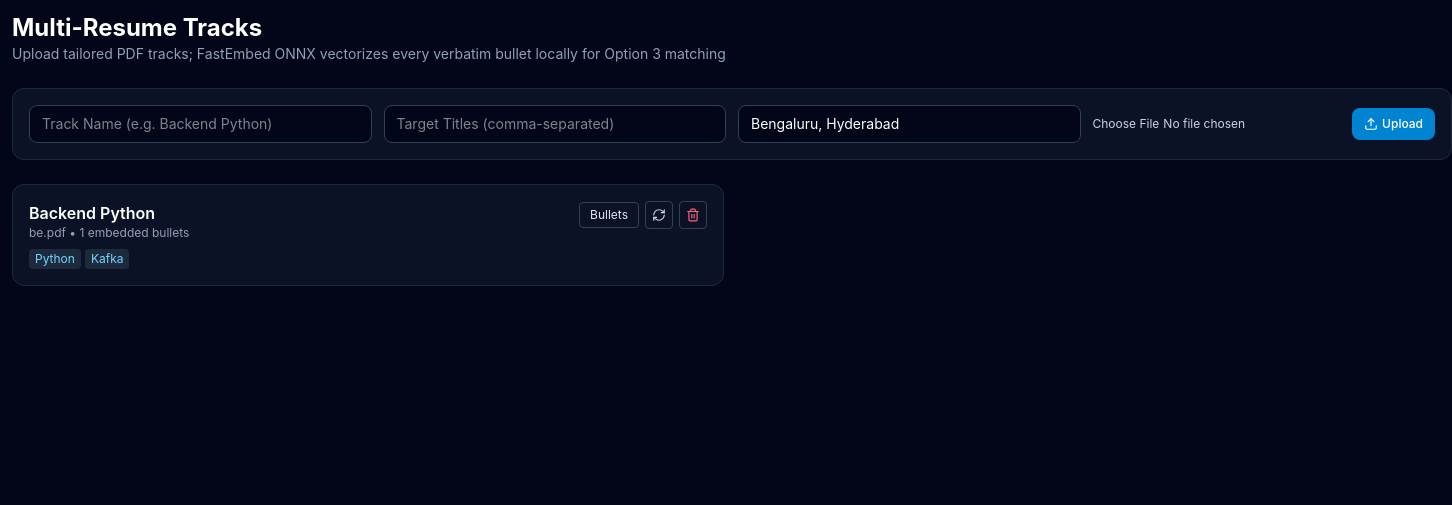
Test case: Comprehensive Frontend Pages & Drawer Tests › ResumesPage uploads PDF, views bullets, reparses, and deletes tracks
Later steps or results of the test are not shown.
Expected: the heading "Backend Python" is shown, 29,203 -> 155,223
Click the button "Bullets". click: (609, 215)
box: 579,202 -> 639,228
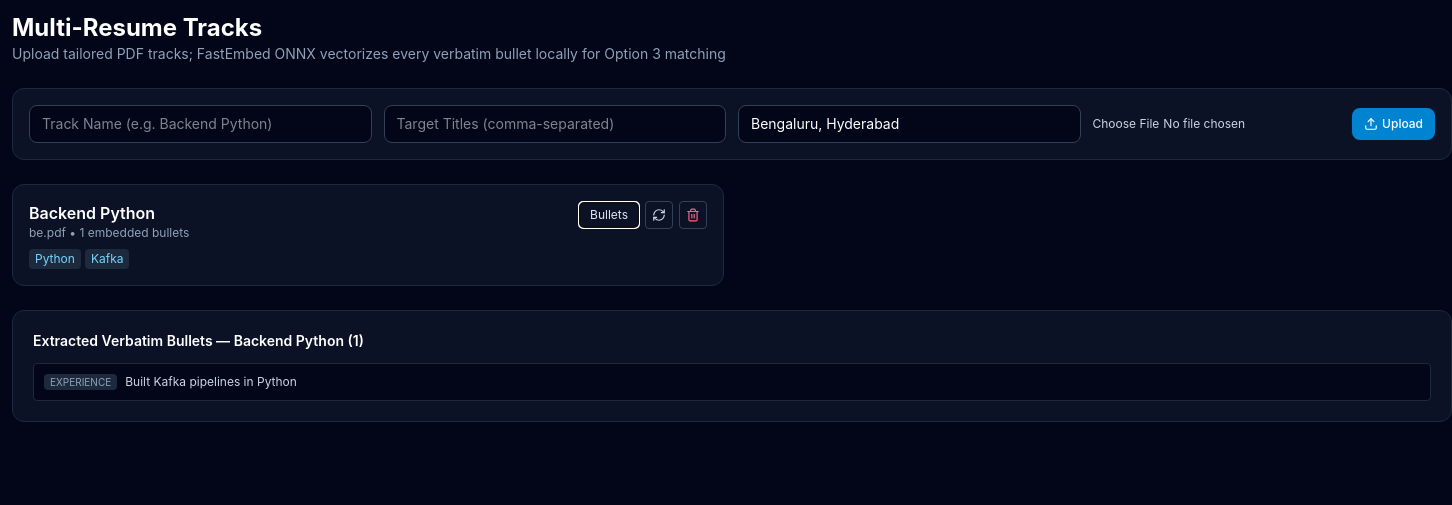
Expected: the list item "Built Kafka pipelines in Python" is shown, 125,374 -> 297,389
Click the button named "Reparse resume". click: (659, 215)
box: 645,201 -> 673,229
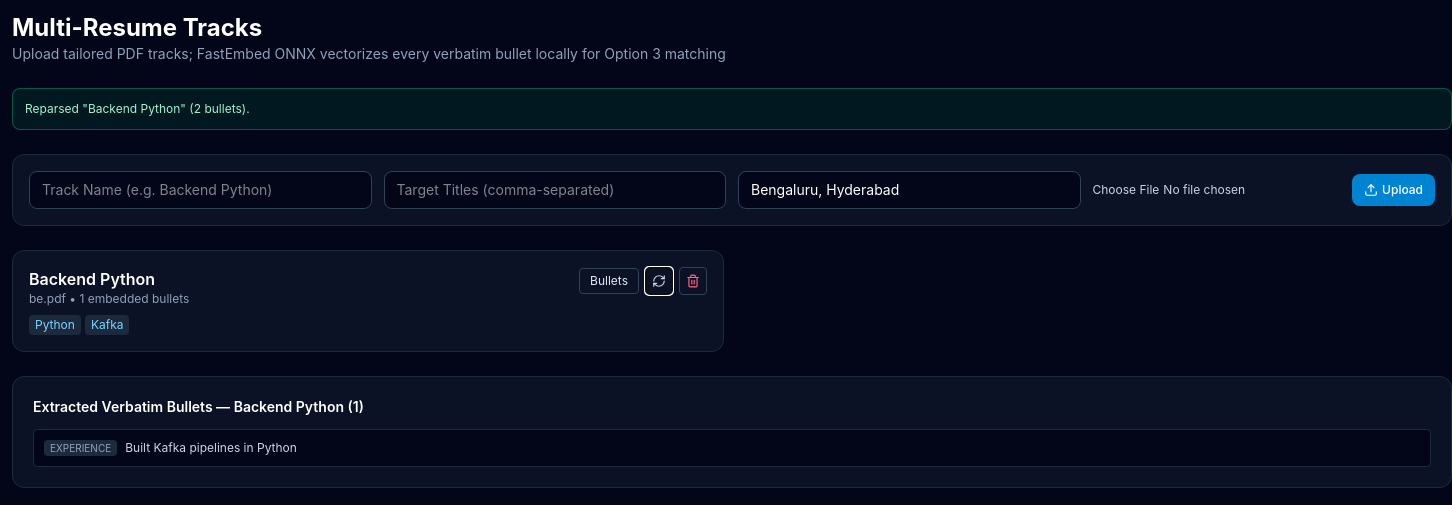
Expected: the text "Reparsed \"Backend Python\" (2 bullets)." is shown, 12,88 -> 1451,130
